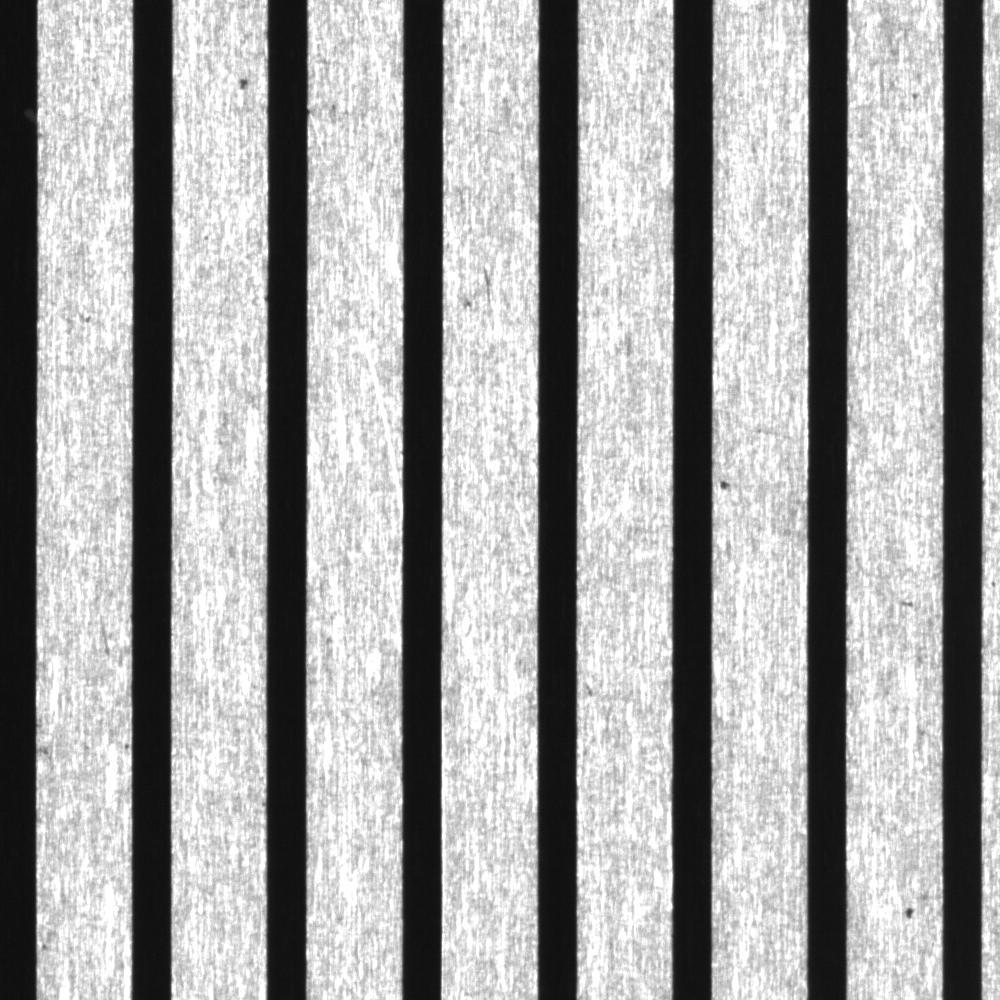Etching: (454, 257, 500, 321), (890, 579, 933, 628), (712, 464, 744, 509), (890, 893, 928, 930), (224, 61, 259, 101)
Scar: (90, 601, 121, 678)
